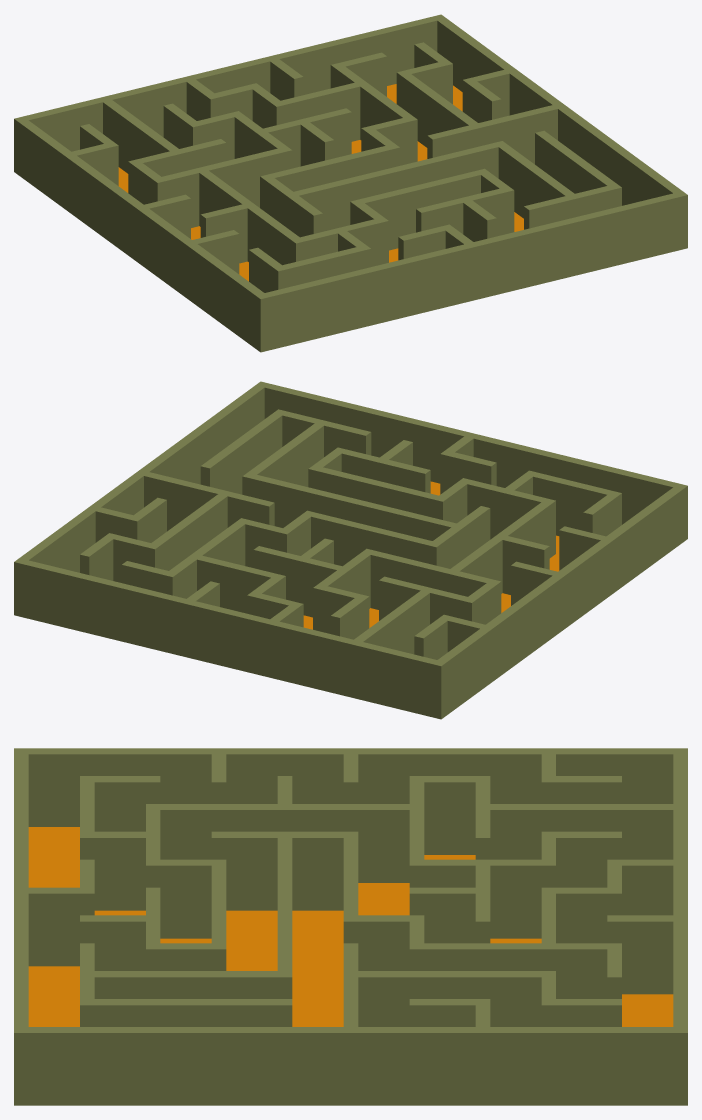
The model's file is Level19Ground.FBX.
3 views of the same model, one above another, from view 1: azimuth 30°, elevation 25°; view 2: azimuth 150°, elevation 25°; view 3: azimuth 270°, elevation 25° (orthographic). The views are drawn at different scales.
Visible parts, largest first — view 1: Labyrinth002; view 2: Labyrinth002; view 3: Labyrinth002.
Part boxes in pixels (box(x1,y1,x2,y2)): Labyrinth002: box(14, 14, 687, 352); Labyrinth002: box(14, 381, 687, 719); Labyrinth002: box(14, 748, 687, 1105).
Bounding box in the file's own units: 235 × 28 × 235.
